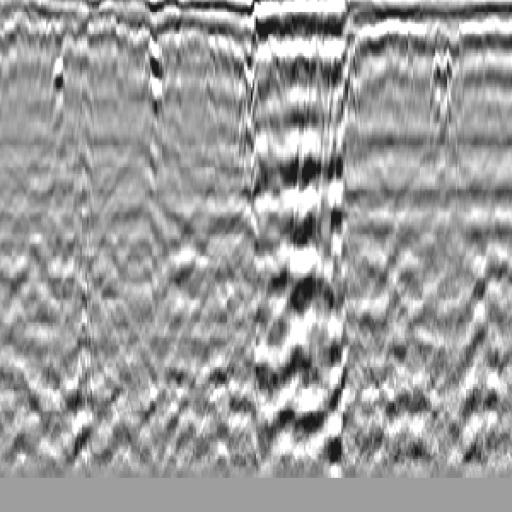non-metallic: (45, 48, 88, 119)
